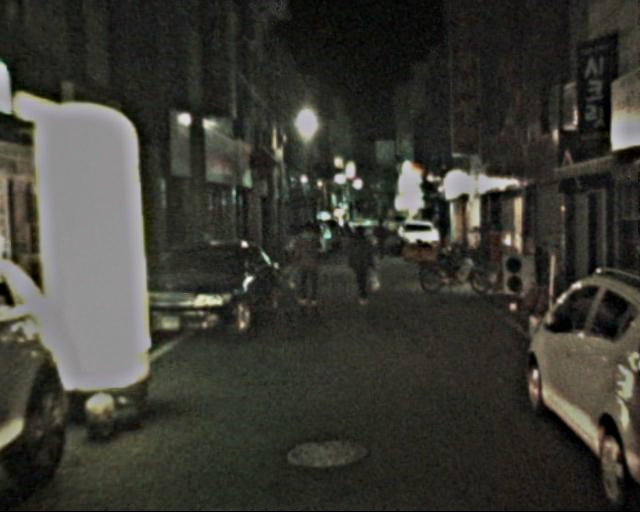person: (289, 218, 328, 310), (343, 225, 377, 309), (374, 220, 392, 264)
